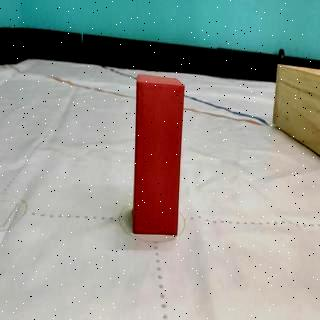redbox: (134, 71, 184, 237)
